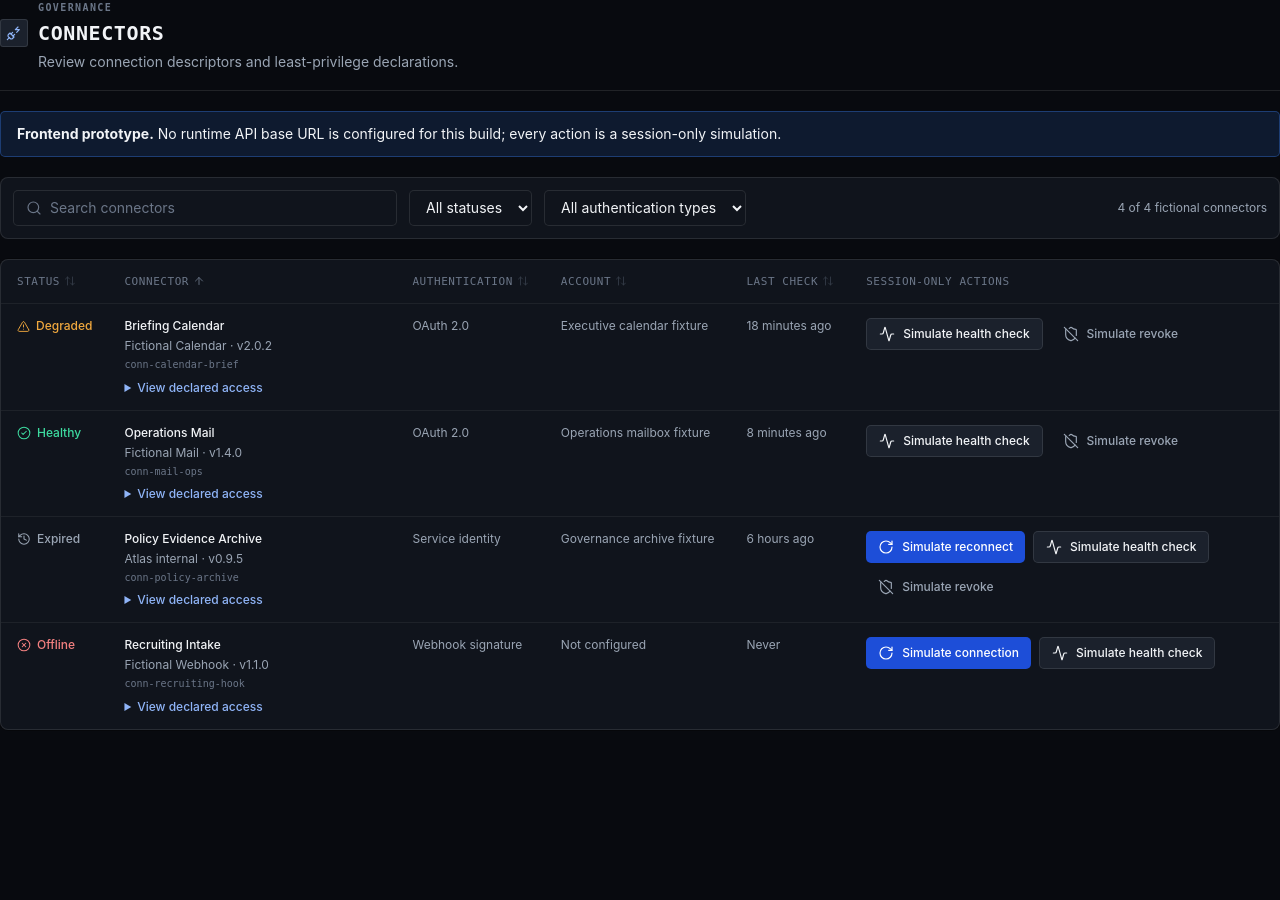
Test case: ConnectorsWorkspace › confirms and labels revocation as a refresh-reset local simulation
Click the button "Simulate revoke" in the row of "Degraded" at coordinates (1120, 334), box [1051, 318, 1190, 350]
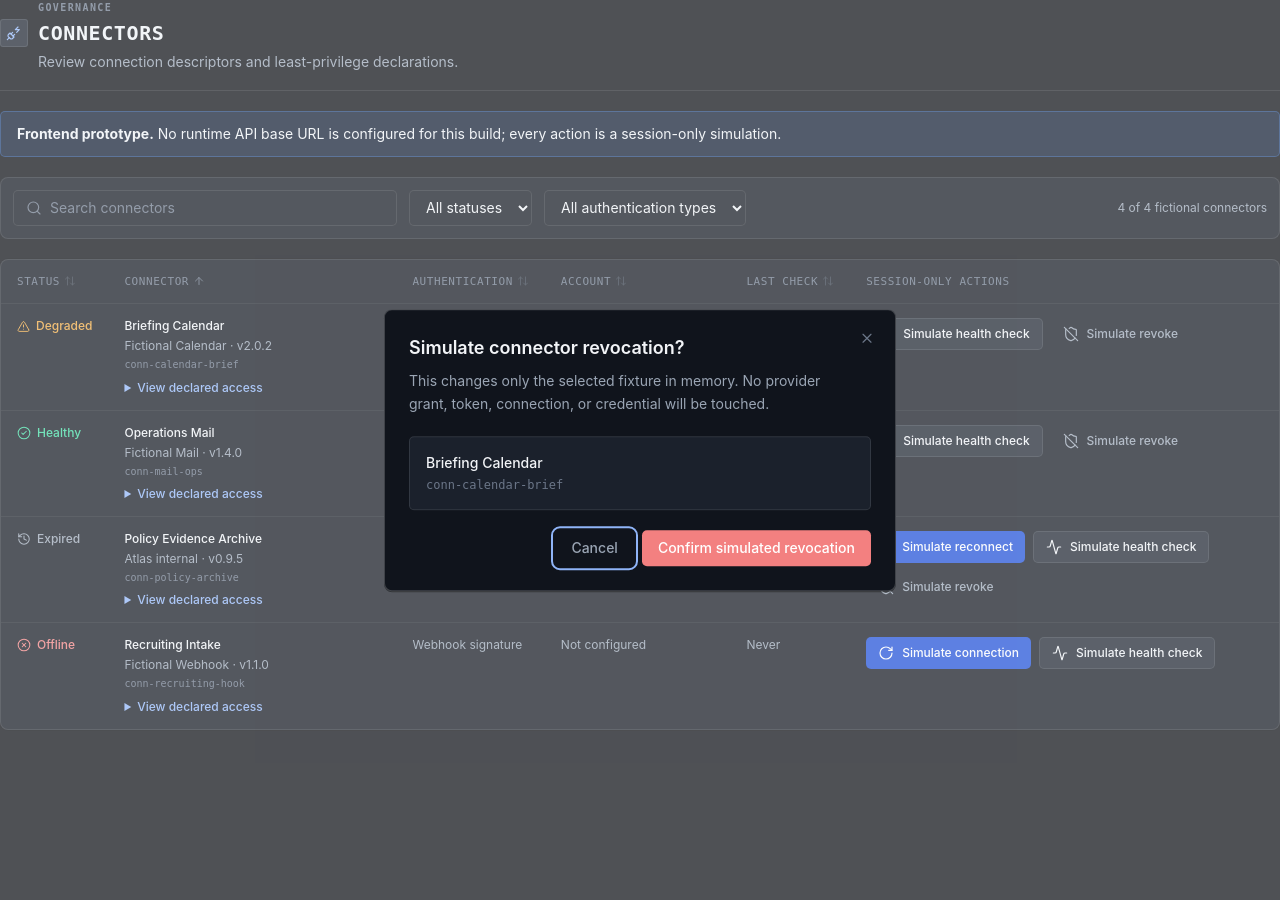
Now the dialog "Simulate connector revocation?" is shown, box [384, 309, 896, 591]
Click the button "Confirm simulated revocation" at coordinates (756, 548), box [642, 530, 871, 566]
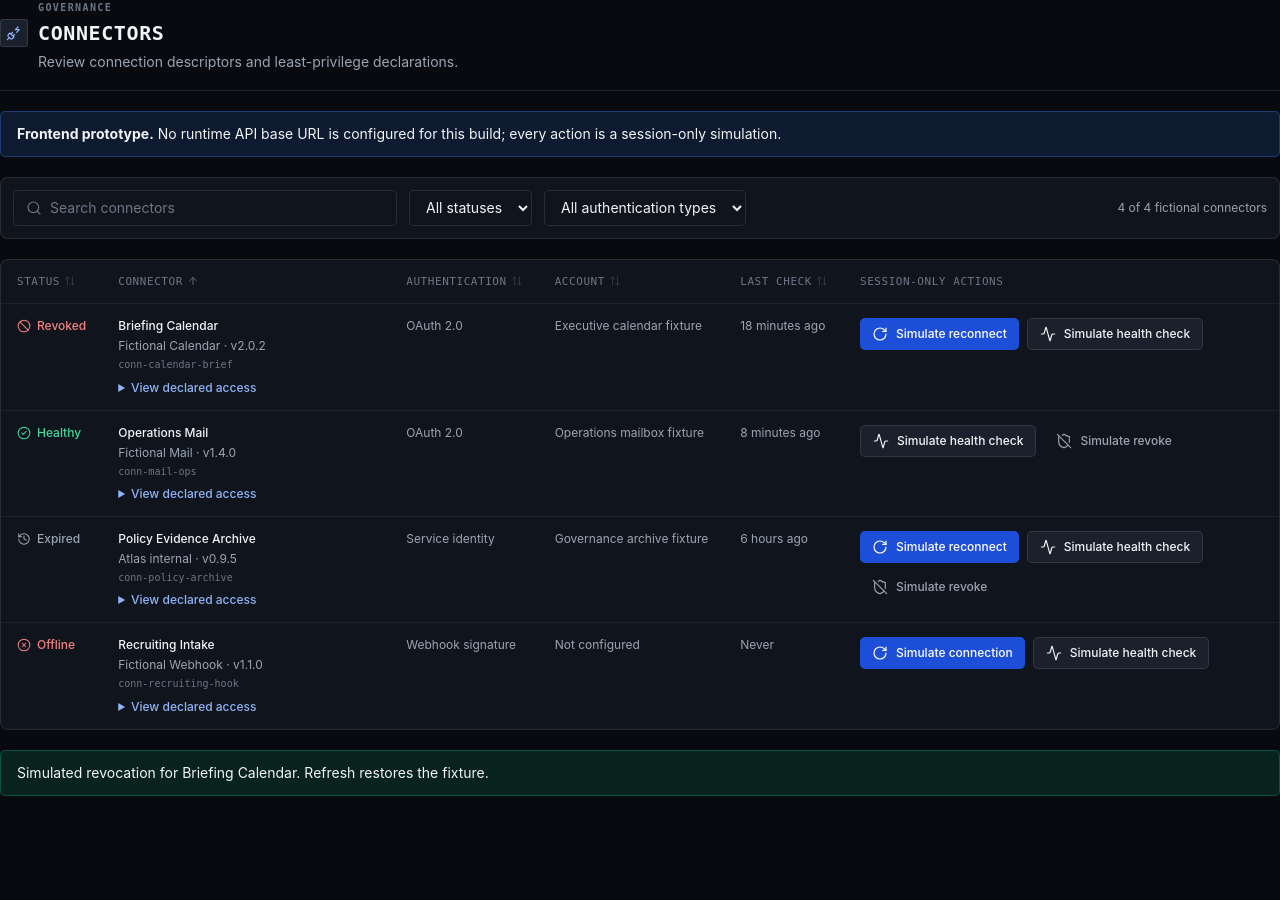
Now the message reads "Simulated revocation for Briefing Calendar. Refresh restores the fixture.", box [17, 764, 489, 781]
